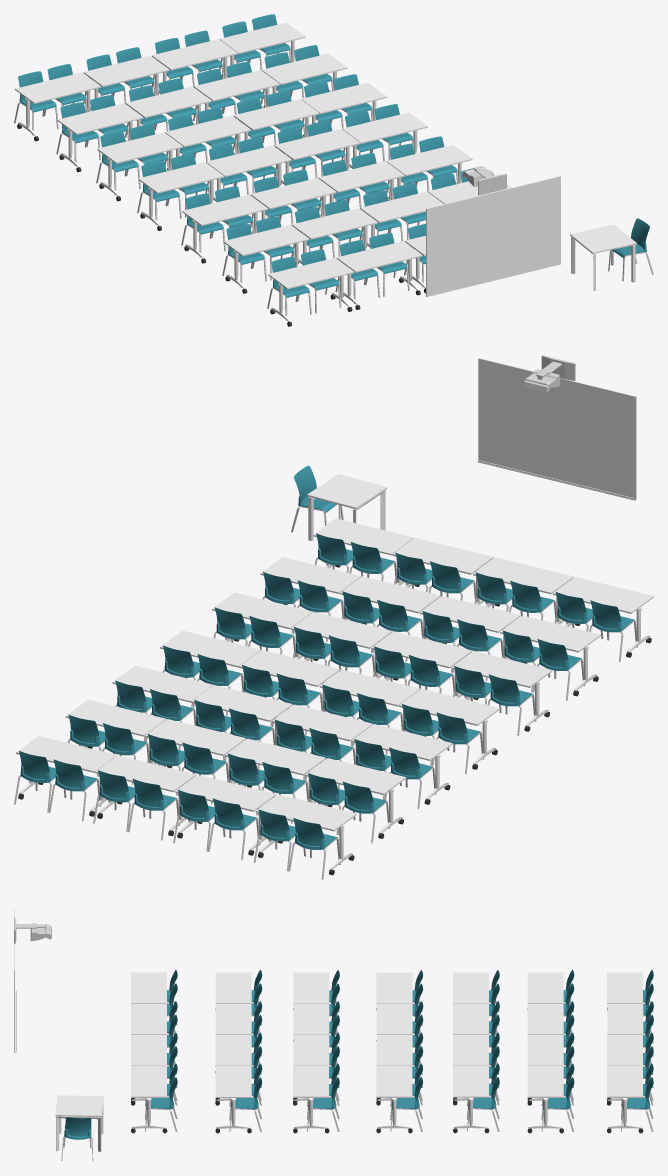
The model's file is SALLE_A5.fbx.
3 renders of one model, top to bottom at view 1: azimuth 30°, elevation 25°; view 2: azimuth 150°, elevation 25°; view 3: azimuth 270°, elevation 25°, orthographic. The views are drawn at different scales.
Parts seen in each view (by area): view 1: bureaux_doubles_A5, chaise_dossier_A5, tableau_A5, chaise_pieds_A5, table_simple_A5, tableau_projo_A5, bureaux_doubles_roues_A5; view 2: bureaux_doubles_A5, chaise_dossier_A5, tableau_A5, chaise_pieds_A5, table_simple_A5, tableau_projo_A5, bureaux_doubles_roues_A5; view 3: bureaux_doubles_A5, chaise_dossier_A5, chaise_pieds_A5, table_simple_A5, bureaux_doubles_roues_A5, tableau_projo_A5.
Part boxes in pixels (x1=…): bureaux_doubles_A5: x1=15, y1=22, x2=511, y2=321; chaise_dossier_A5: x1=18, y1=14, x2=649, y2=297; tableau_A5: x1=425, y1=176, x2=560, y2=296; chaise_pieds_A5: x1=14, y1=48, x2=653, y2=320; table_simple_A5: x1=570, y1=224, x2=636, y2=290; tableau_projo_A5: x1=463, y1=166, x2=506, y2=195; bureaux_doubles_roues_A5: x1=17, y1=75, x2=425, y2=326; bureaux_doubles_A5: x1=16, y1=518, x2=653, y2=869; chaise_dossier_A5: x1=19, y1=465, x2=634, y2=849; tableau_A5: x1=477, y1=358, x2=636, y2=500; chaise_pieds_A5: x1=14, y1=505, x2=637, y2=879; table_simple_A5: x1=307, y1=474, x2=387, y2=540; tableau_projo_A5: x1=524, y1=355, x2=575, y2=392; bureaux_doubles_roues_A5: x1=18, y1=565, x2=651, y2=875; bureaux_doubles_A5: x1=131, y1=972, x2=643, y2=1128; chaise_dossier_A5: x1=64, y1=970, x2=653, y2=1139; chaise_pieds_A5: x1=61, y1=1000, x2=653, y2=1161; table_simple_A5: x1=55, y1=1095, x2=103, y2=1152; bureaux_doubles_roues_A5: x1=131, y1=1008, x2=643, y2=1133; tableau_projo_A5: x1=14, y1=917, x2=51, y2=944.
Bounding box in the file's own units: 579 × 272 × 1034.
